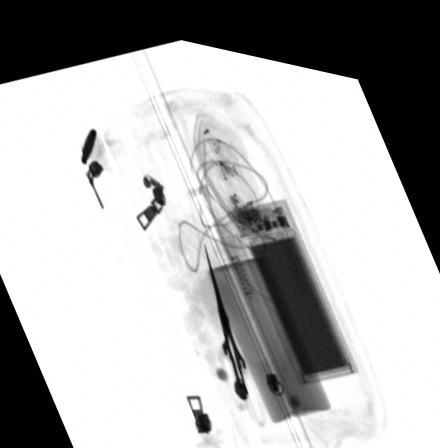Powerbank: (226, 185, 358, 367)
Scissors: (200, 230, 272, 415)
